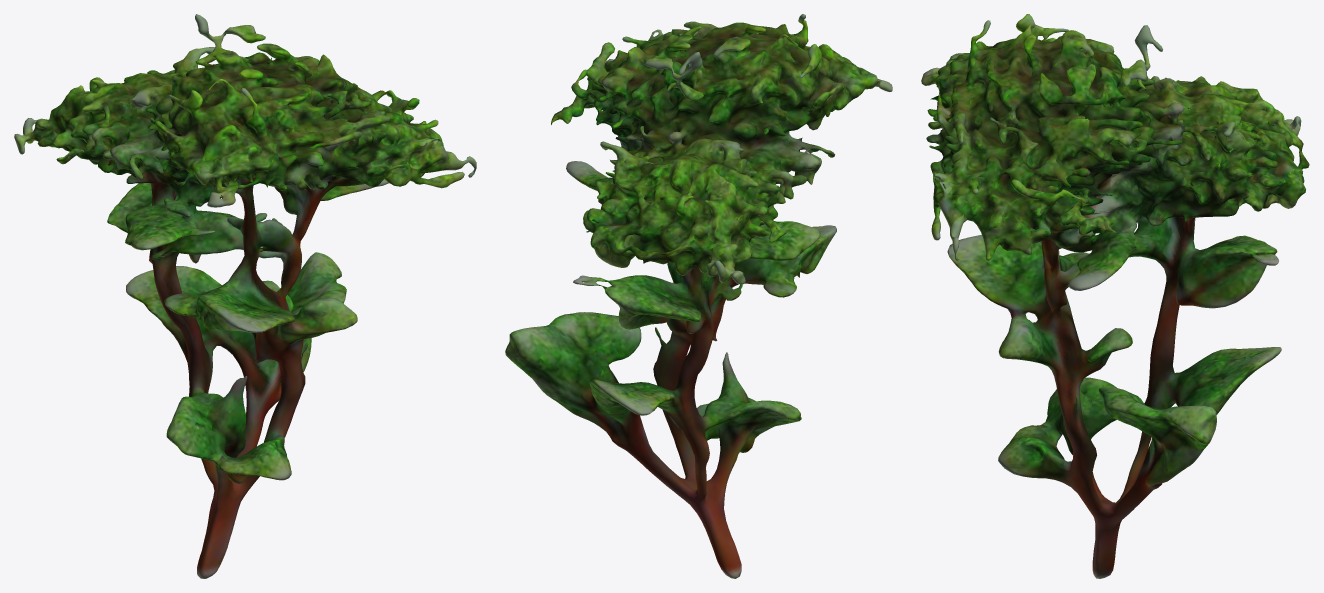
Rendered from db7ea2b2b1a9_low_poly_fantasy_ta.fbx.
The picture shows the model from 3 angles, left to right: view 1: azimuth 30°, elevation 25°; view 2: azimuth 150°, elevation 25°; view 3: azimuth 270°, elevation 25°; orthographic projection. The views are drawn at different scales.
Parts seen in each view (by area): view 1: high_poly; view 2: high_poly; view 3: high_poly.
Boxes of the visible parts, bbox=[...] form: high_poly: bbox=[14, 14, 476, 578]; high_poly: bbox=[505, 14, 892, 578]; high_poly: bbox=[921, 14, 1309, 578].
Size of the model in its own units: 58.05 by 100 by 62.75.
